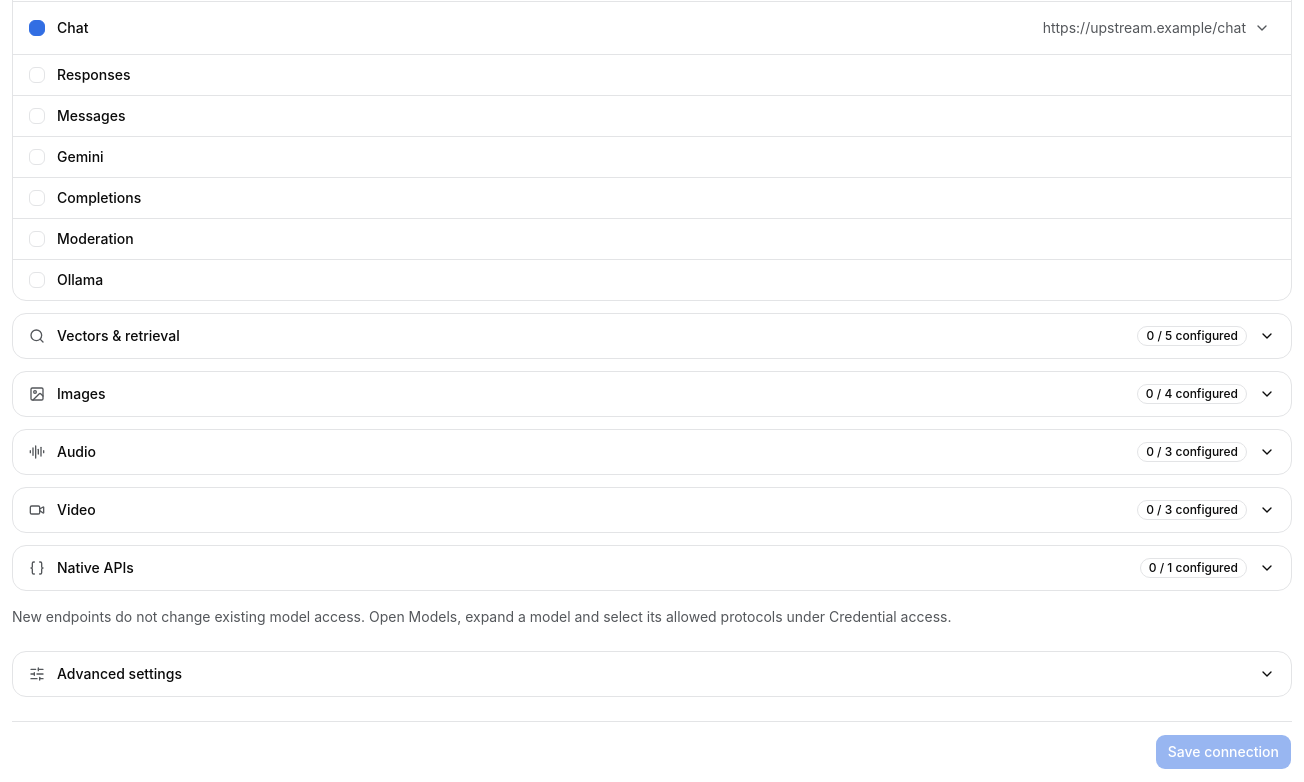
it: upstream maintenance › edits a name without reading or sending hidden request settings
(page scrolled)
Click the button "Advanced settings" at point(120, 673), box [13,652,1291,696]
(page scrolled)
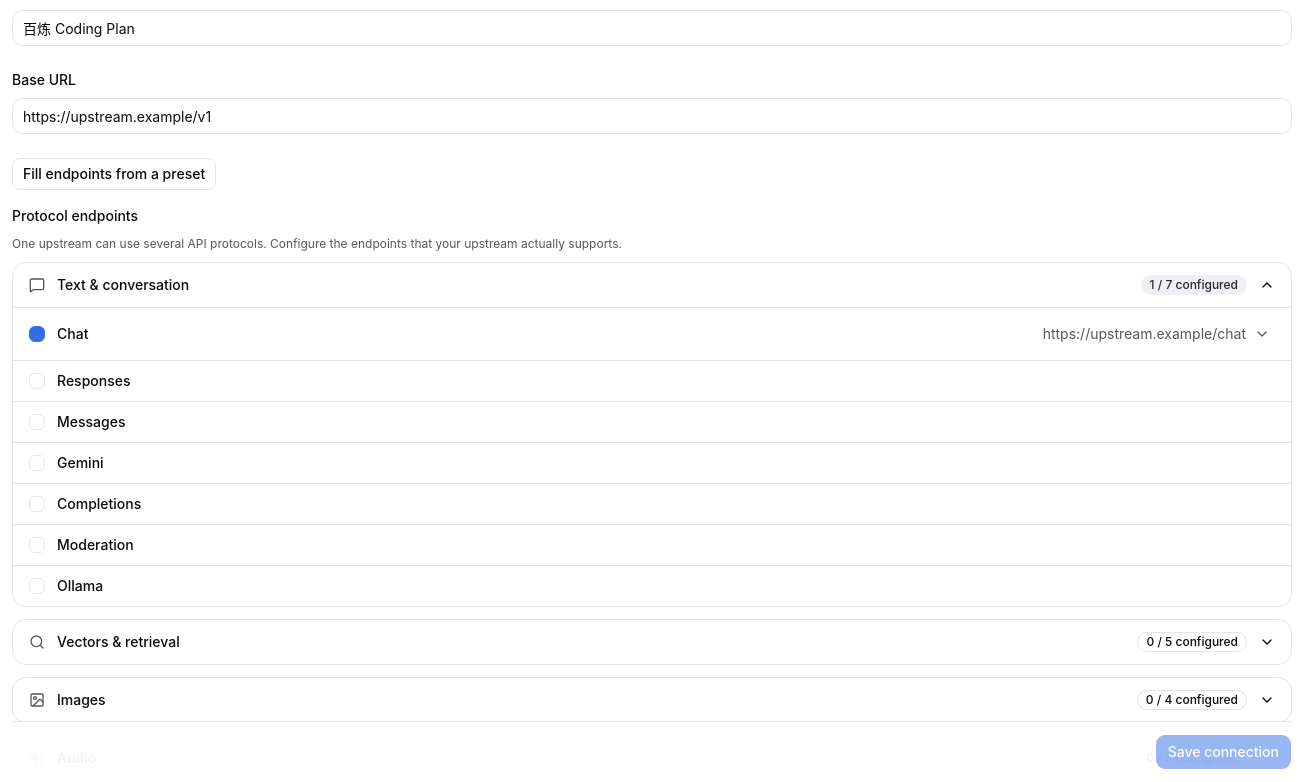
Replace the text in the field labelled "Name" with "New name" at point(652, 28), box [12,10,1292,46]
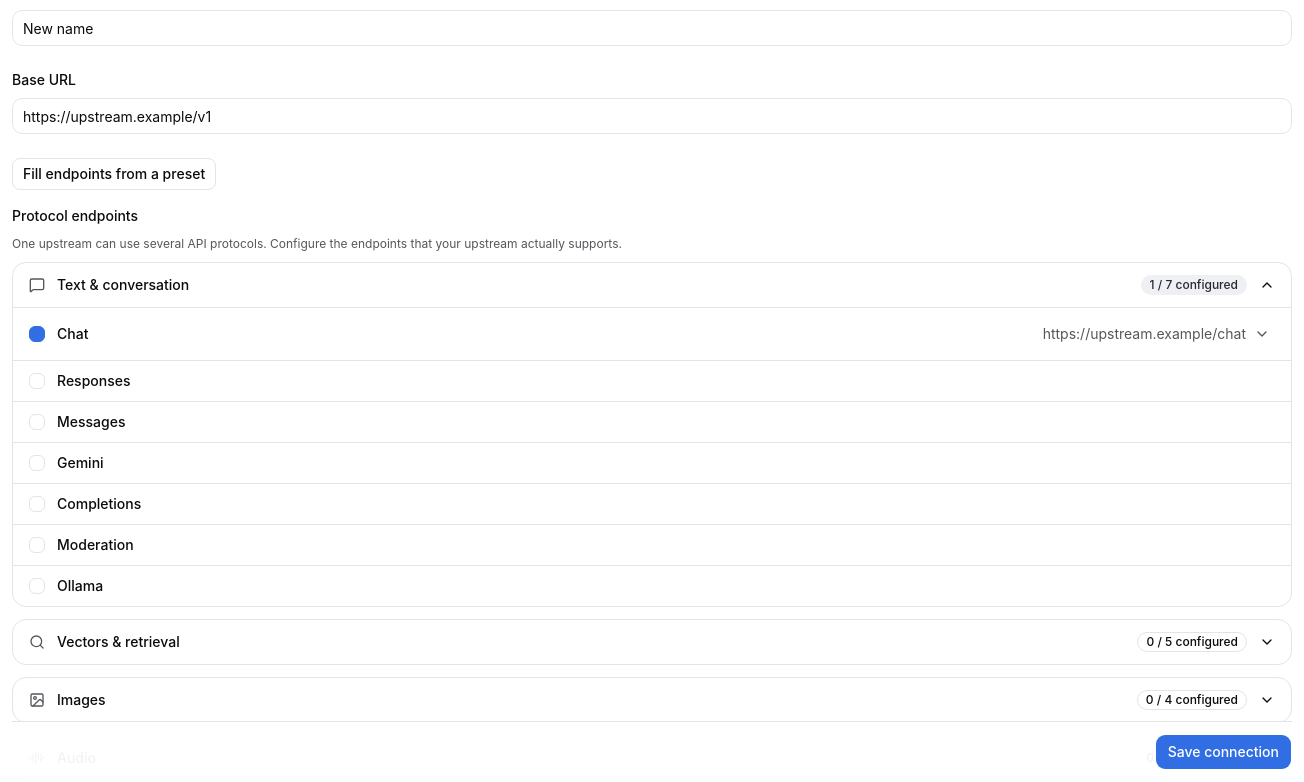
Click the button "Save connection" at point(1223, 752), box [1155,734,1292,770]
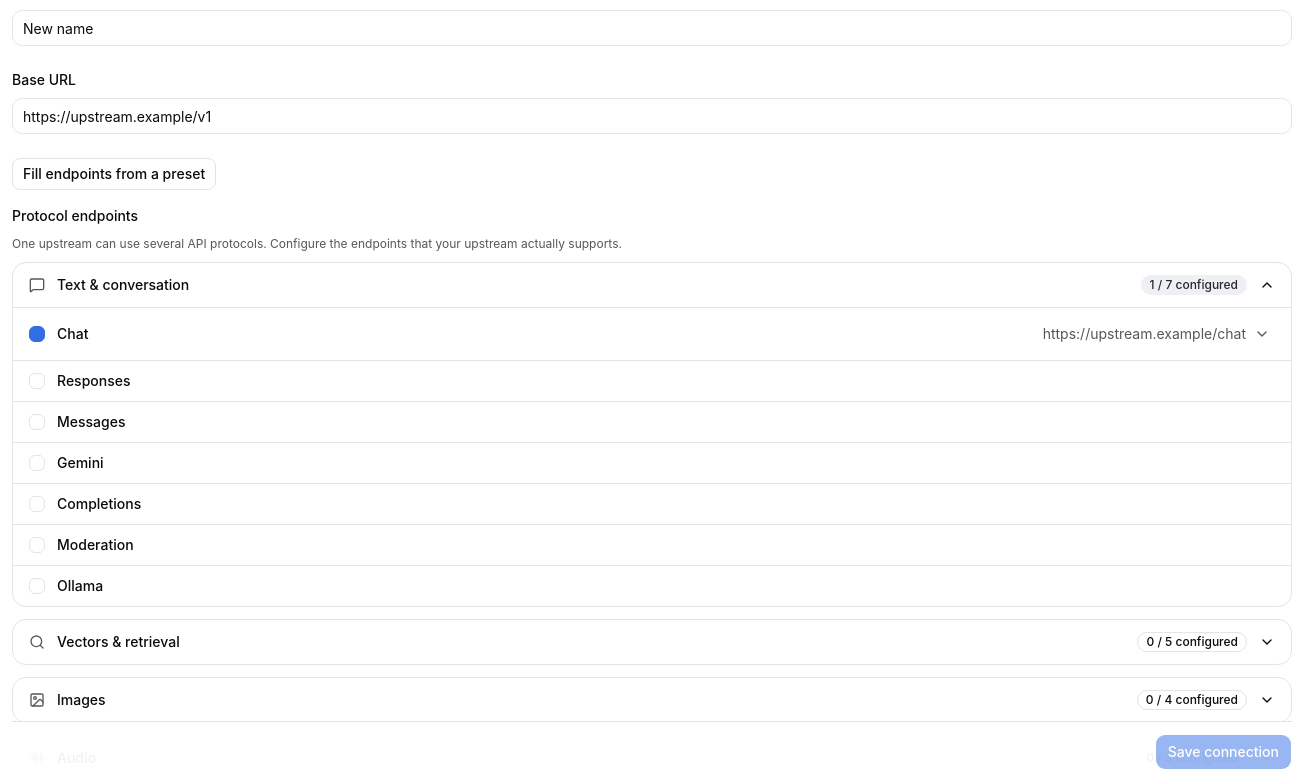
Expected: the button "Save connection" is disabled, [1155,734,1292,770]
